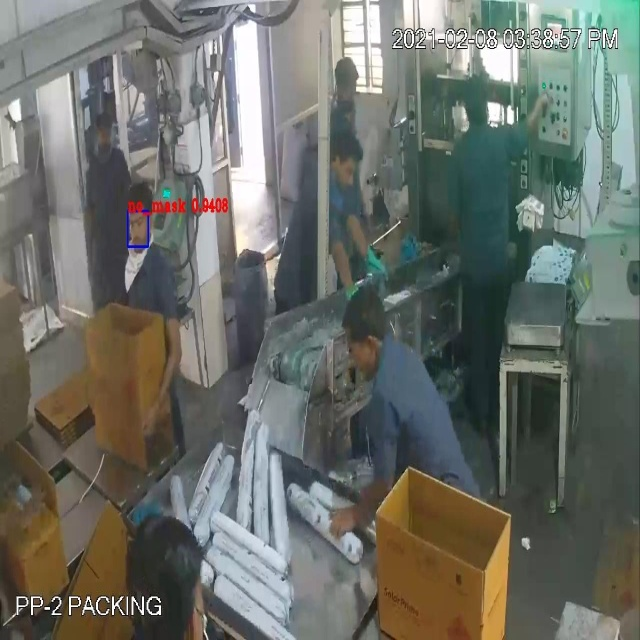Sin_guantes: (326, 465, 404, 556), (132, 316, 189, 418)
